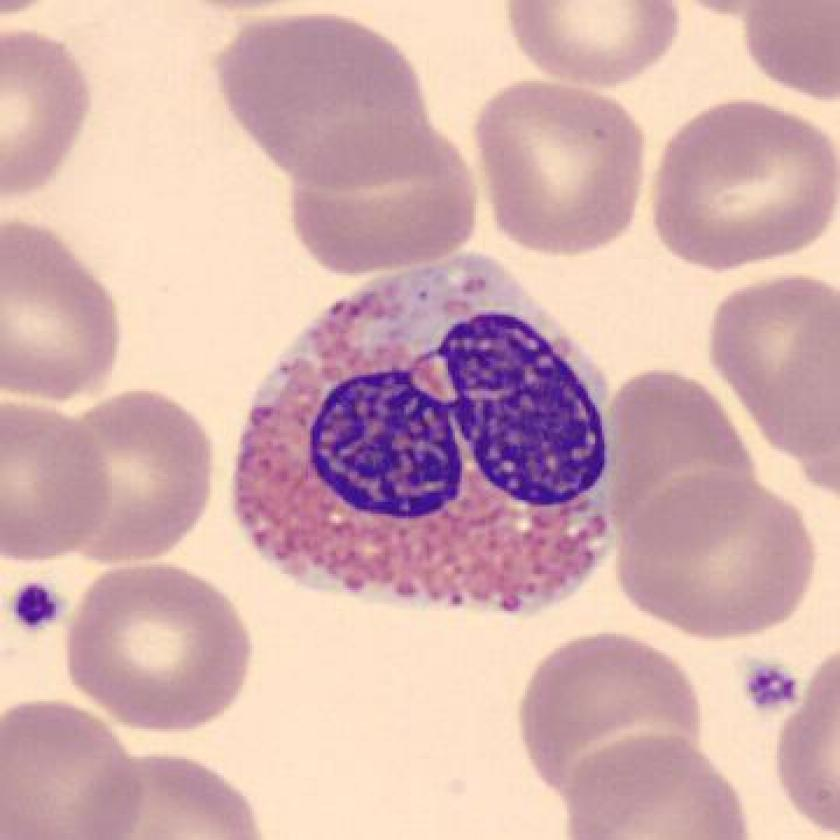eosinophil: (218, 235, 640, 626)
